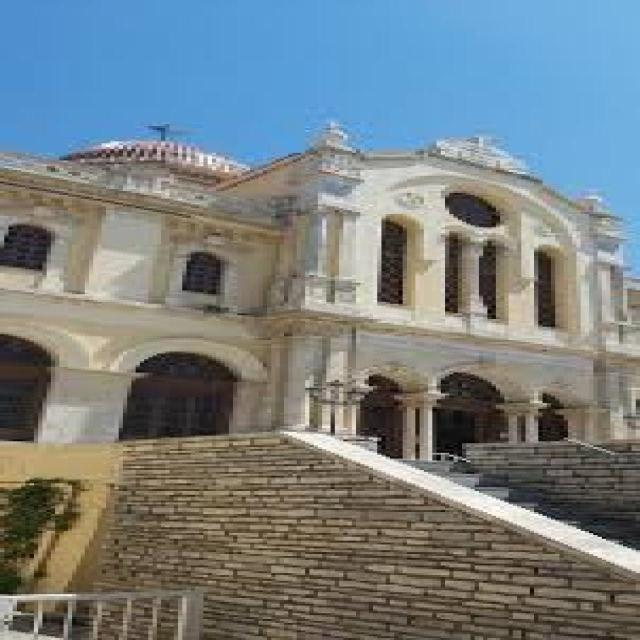Agios Minas: (10, 96, 640, 472)
